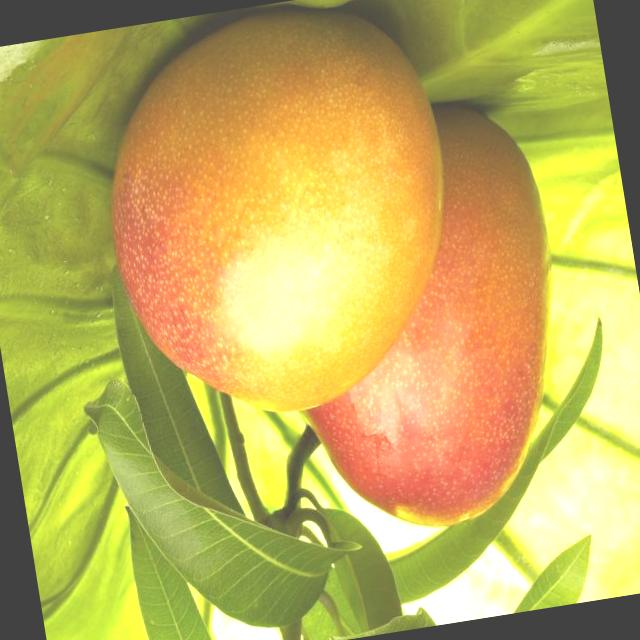Mango: (90, 0, 478, 434), (254, 91, 588, 542)
